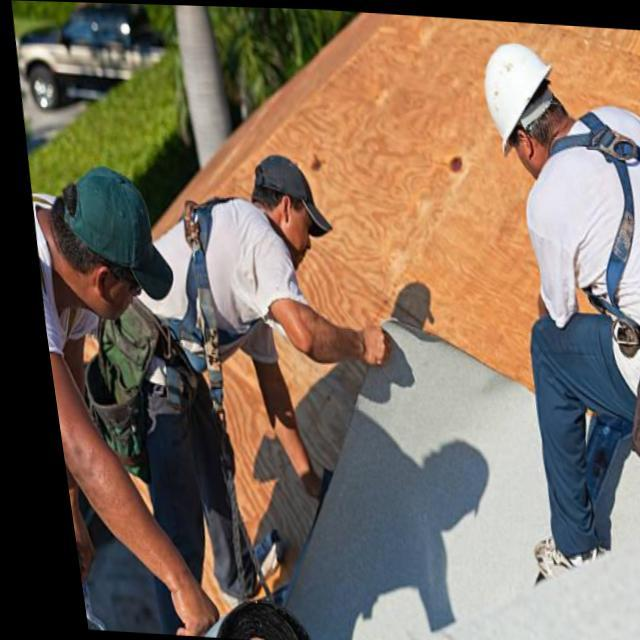belt: (527, 82, 640, 404), (96, 184, 264, 396)
